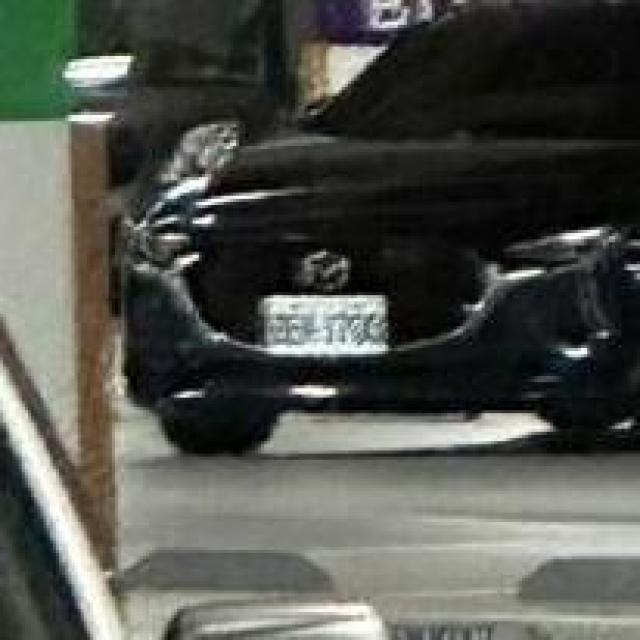W: (258, 286, 401, 360)
